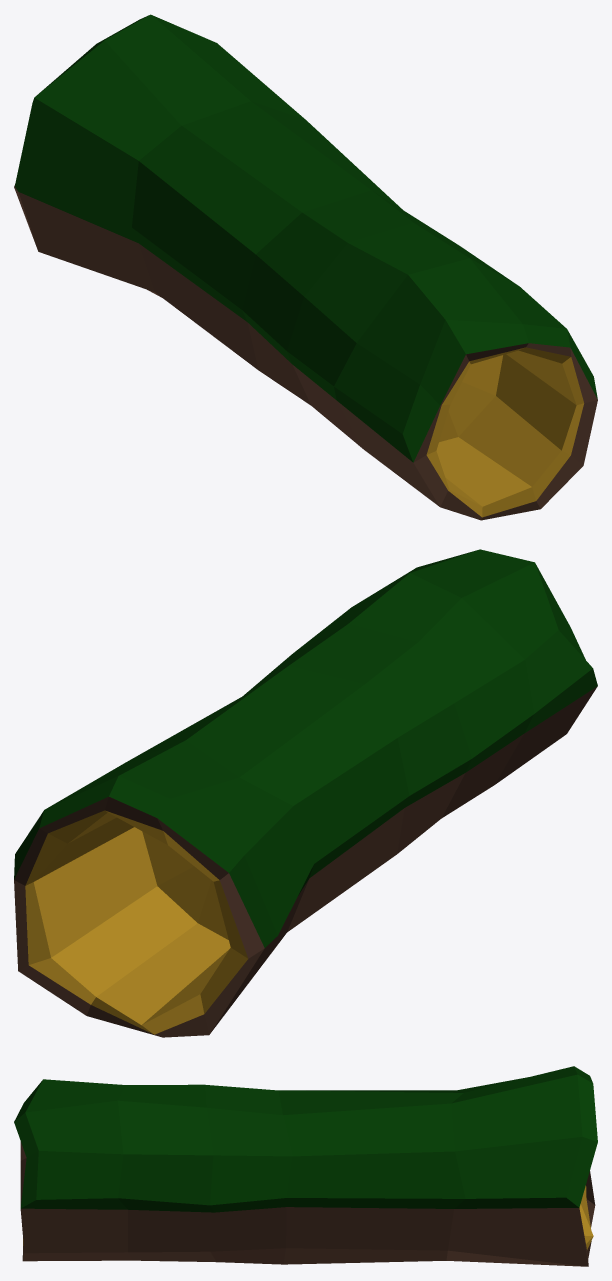
The model's file is log_001.fbx.
3 renders of one model, top to bottom at view 1: azimuth 30°, elevation 25°; view 2: azimuth 150°, elevation 25°; view 3: azimuth 270°, elevation 25°, orthographic. The views are drawn at different scales.
Parts seen in each view (by area): view 1: log_001; view 2: log_001; view 3: log_001.
Boxes of the visible parts, left/top/right/bottom form: log_001: left=14, top=14, right=597, bottom=520; log_001: left=14, top=549, right=597, bottom=1037; log_001: left=14, top=1066, right=597, bottom=1266.
Size of the model in its own units: 417 by 373 by 1088.
